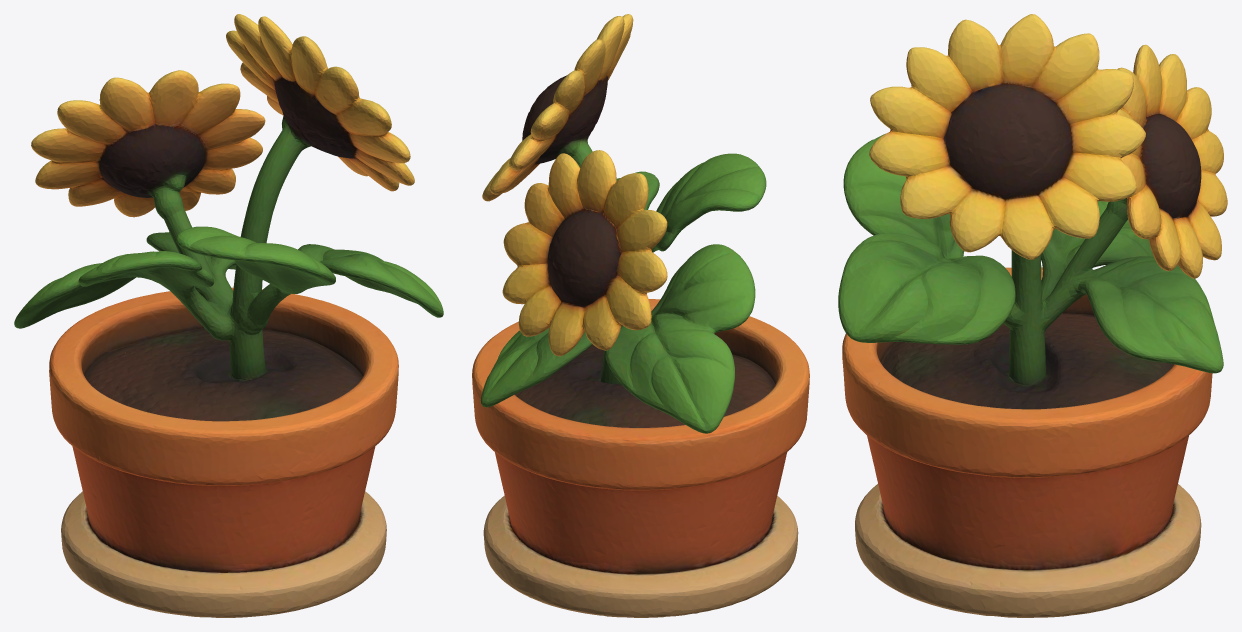
Rendered from flower_1.glb.
3 renders of one model, left to right at view 1: azimuth 30°, elevation 25°; view 2: azimuth 150°, elevation 25°; view 3: azimuth 270°, elevation 25°, orthographic. The views are drawn at different scales.
Visible parts, largest first — view 1: tripo_node_983004f7-3261-48d2-a2dd-d44c101886e5; view 2: tripo_node_983004f7-3261-48d2-a2dd-d44c101886e5; view 3: tripo_node_983004f7-3261-48d2-a2dd-d44c101886e5.
Part boxes in pixels (x1,y1,x2,y2): tripo_node_983004f7-3261-48d2-a2dd-d44c101886e5: (14, 14, 443, 617); tripo_node_983004f7-3261-48d2-a2dd-d44c101886e5: (472, 14, 809, 617); tripo_node_983004f7-3261-48d2-a2dd-d44c101886e5: (838, 14, 1227, 617).
Size of the model in its own units: 0.6049 by 0.9995 by 0.6339.
Materials: 1 (1 with a texture image).
